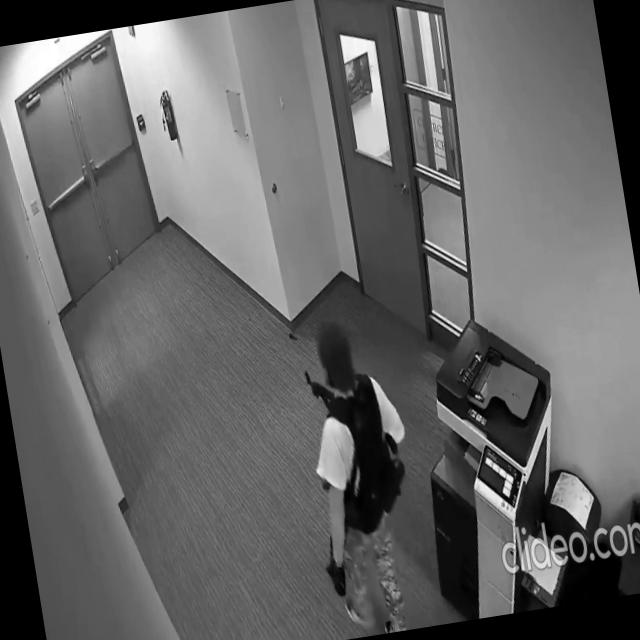gun: (304, 364, 346, 427)
person with a gun: (284, 306, 436, 640)
